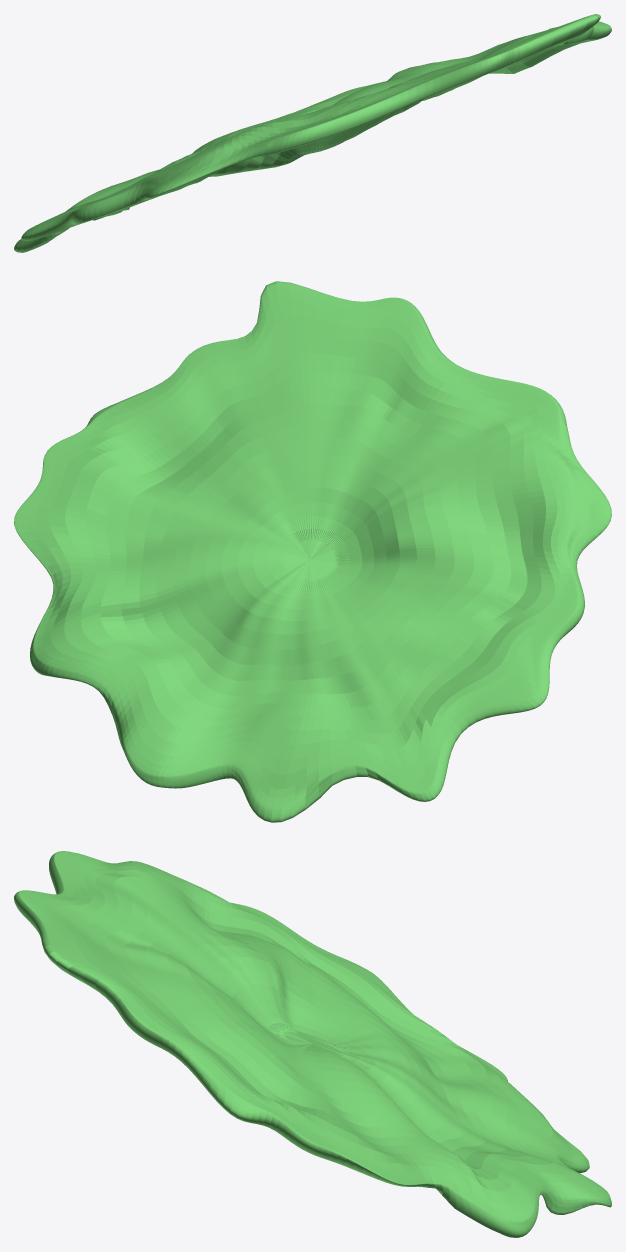
The model's file is Lettuce.fbx.
3 views of the same model, one above another, from view 1: azimuth 30°, elevation 25°; view 2: azimuth 150°, elevation 25°; view 3: azimuth 270°, elevation 25° (orthographic). The views are drawn at different scales.
Parts seen in each view (by area): view 1: lettuce; view 2: lettuce; view 3: lettuce.
Part boxes in pixels (x1,y1,x2,y2): lettuce: (14, 14, 611, 252); lettuce: (14, 281, 611, 822); lettuce: (14, 851, 611, 1237).
Bounding box in the file's own units: 3.08 × 1.73 × 2.74.
